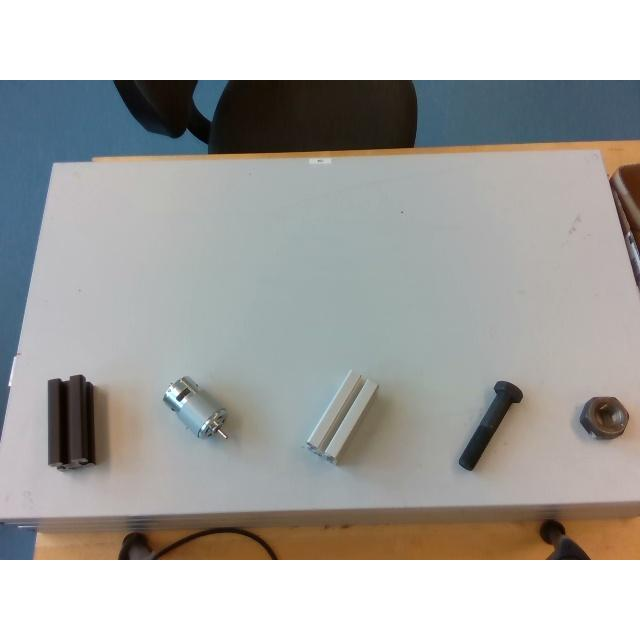M20_100: (458, 382, 522, 471)
M30: (580, 397, 628, 439)
Motor2: (162, 376, 228, 439)
S40_40_B: (48, 375, 94, 469)
S40_40_G: (306, 371, 378, 462)
